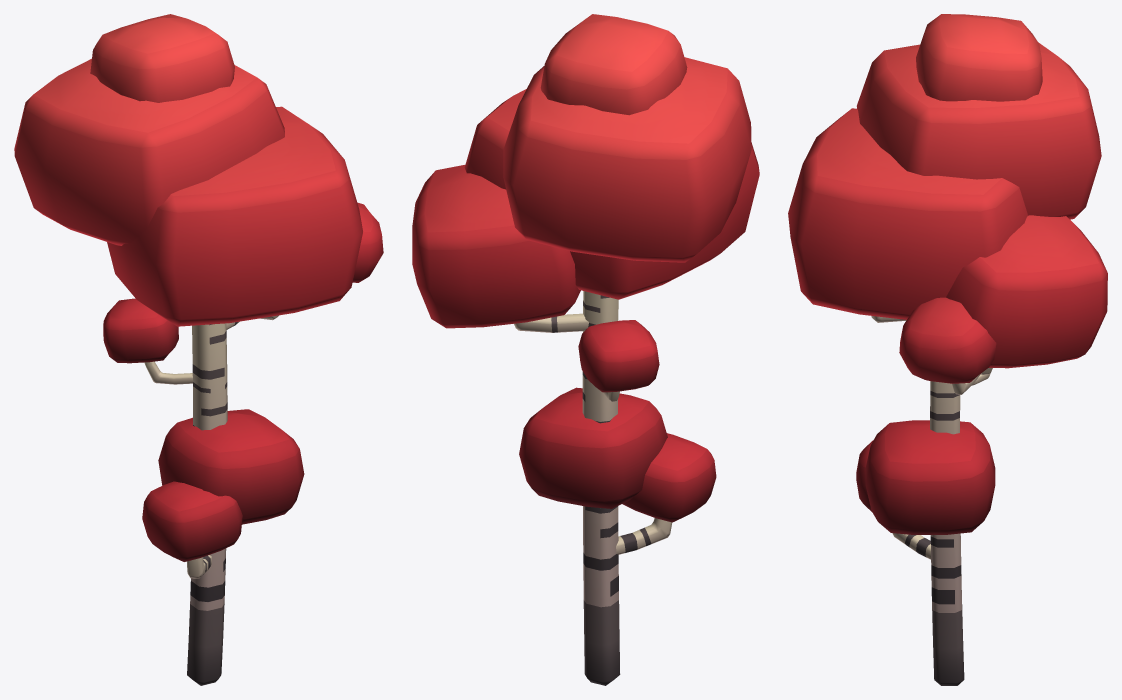
The model's file is birch_tree_col3_02.fbx.
3 renders of one model, left to right at view 1: azimuth 30°, elevation 25°; view 2: azimuth 150°, elevation 25°; view 3: azimuth 270°, elevation 25°, orthographic. The views are drawn at different scales.
Parts seen in each view (by area): view 1: birch_tree_SC_col3_02; view 2: birch_tree_SC_col3_02; view 3: birch_tree_SC_col3_02.
Part boxes in pixels (bbox=[...]): birch_tree_SC_col3_02: bbox=[14, 14, 383, 685]; birch_tree_SC_col3_02: bbox=[412, 14, 759, 685]; birch_tree_SC_col3_02: bbox=[788, 14, 1107, 685].
Bounding box in the file's own units: 612 × 1187 × 533.
